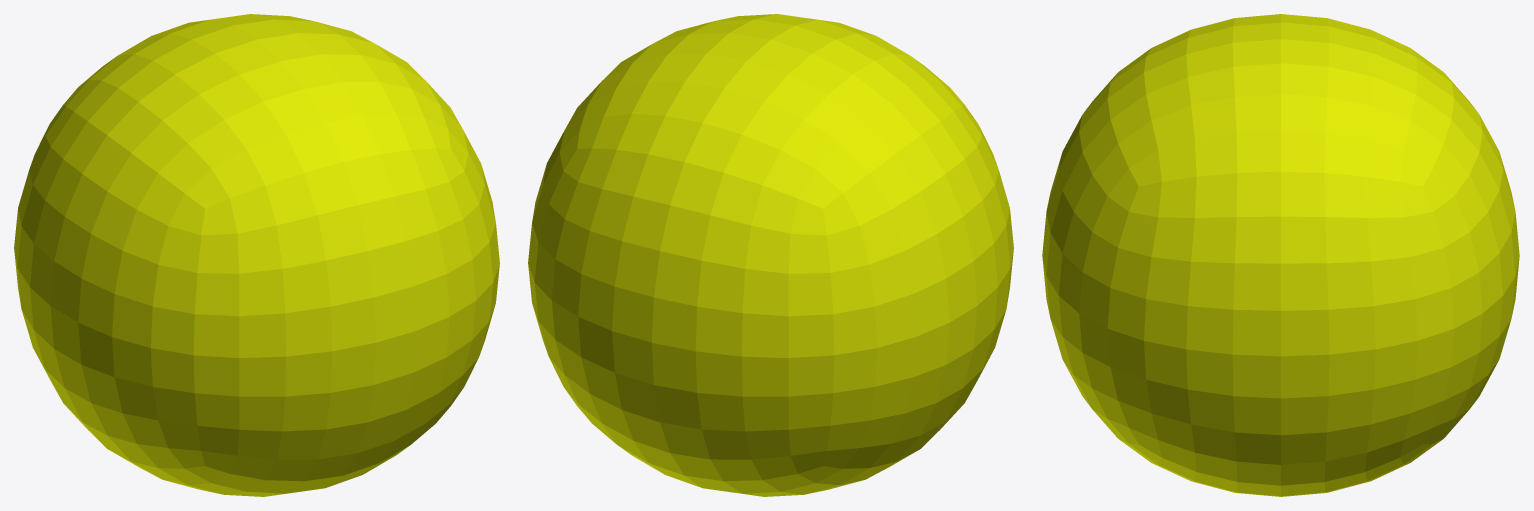
File: estrattoredx.glb
The picture shows the model from 3 angles, left to right: view 1: azimuth 30°, elevation 25°; view 2: azimuth 150°, elevation 25°; view 3: azimuth 270°, elevation 25°; orthographic projection.
Parts seen in each view (by area): view 1: estrattoredx; view 2: estrattoredx; view 3: estrattoredx.
Part boxes in pixels (bbox=[...]): estrattoredx: bbox=[14, 14, 499, 496]; estrattoredx: bbox=[528, 14, 1013, 496]; estrattoredx: bbox=[1042, 14, 1519, 496].
Size of the model in its own units: 0.0042 by 0.0042 by 0.0042.
